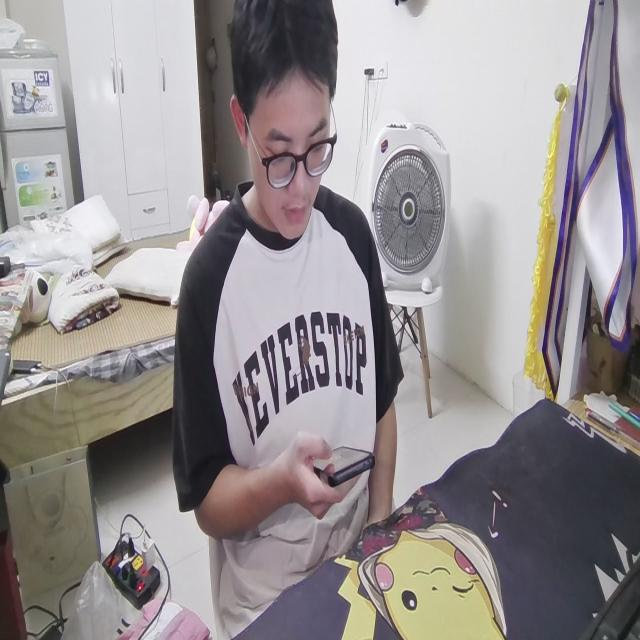phone: (302, 435, 375, 497)
student: (168, 6, 400, 610)
